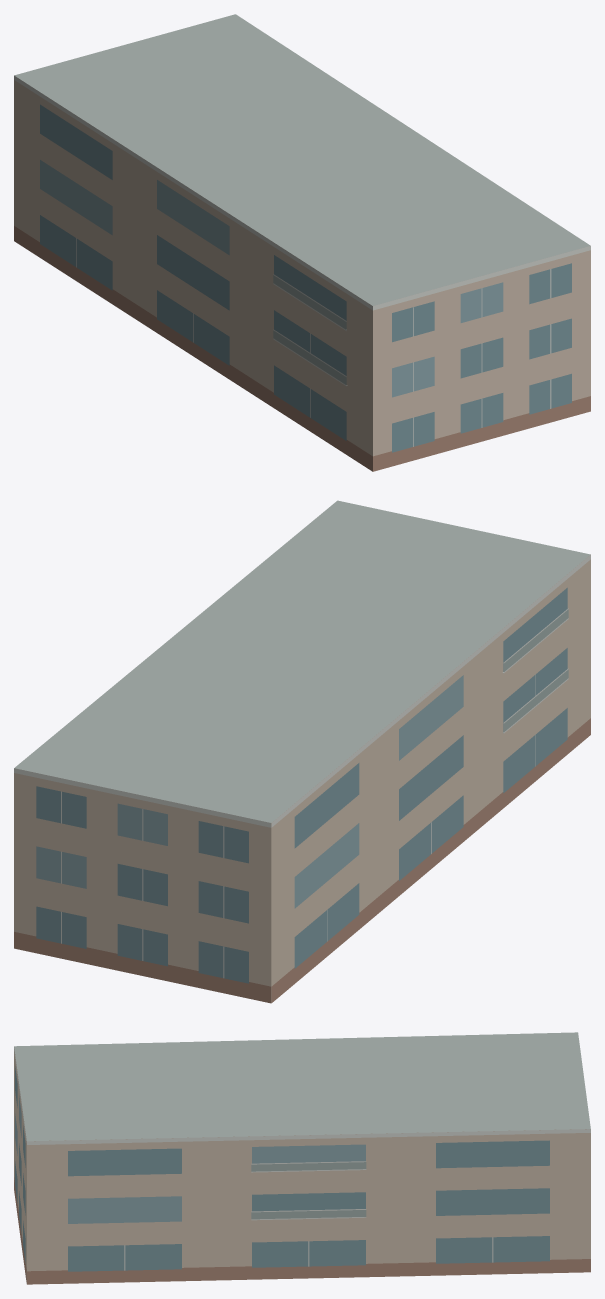
File: survey-upis-32634215.glb
3 views of the same model, one above another, from view 1: azimuth 30°, elevation 25°; view 2: azimuth 150°, elevation 25°; view 3: azimuth 270°, elevation 25° (orthographic). The views are drawn at different scales.
Visible parts, largest first — view 1: survey-upis-32634215.tmp; view 2: survey-upis-32634215.tmp; view 3: survey-upis-32634215.tmp.
Boxes of the visible parts, bbox=[...] form: survey-upis-32634215.tmp: bbox=[14, 14, 590, 471]; survey-upis-32634215.tmp: bbox=[14, 500, 590, 1003]; survey-upis-32634215.tmp: bbox=[14, 1032, 590, 1284].
Bounding box in the file's own units: 14.93 × 9.15 × 33.4.
